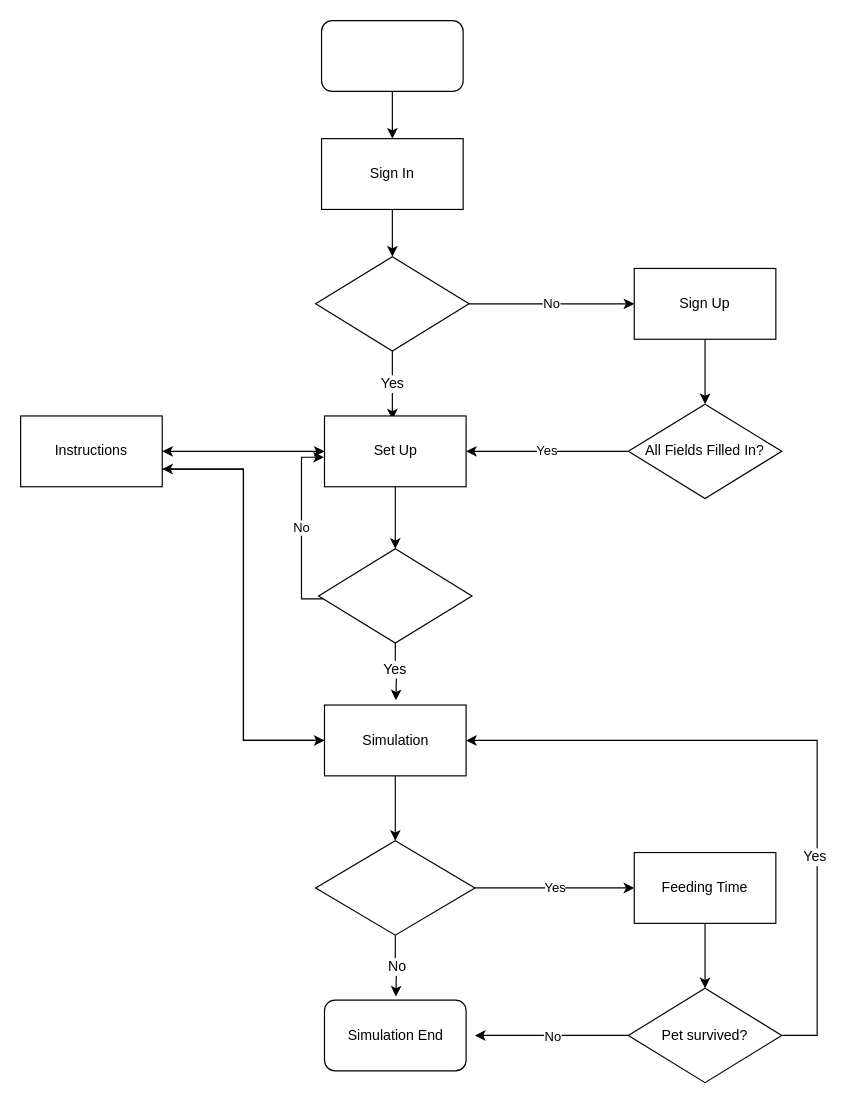
Some shapes in this 847 by 1103 pixel diagram are drawn without their labels. The box of each missing label's shape, as (x1, y1, x2, y2) in pixels:
All Set Up?: (317, 548, 472, 643)
Have An Account?: (314, 255, 469, 351)
Pet is Hungry. Has it been fed?: (314, 840, 475, 935)
Start: (320, 19, 463, 91)
